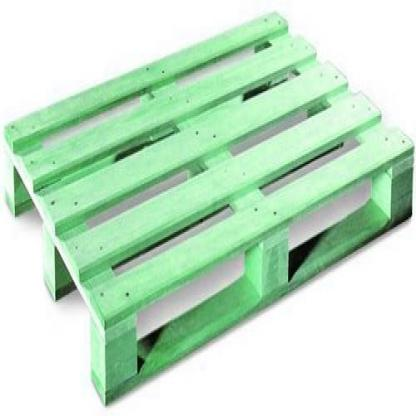BoxFace: (1, 10, 414, 414)
